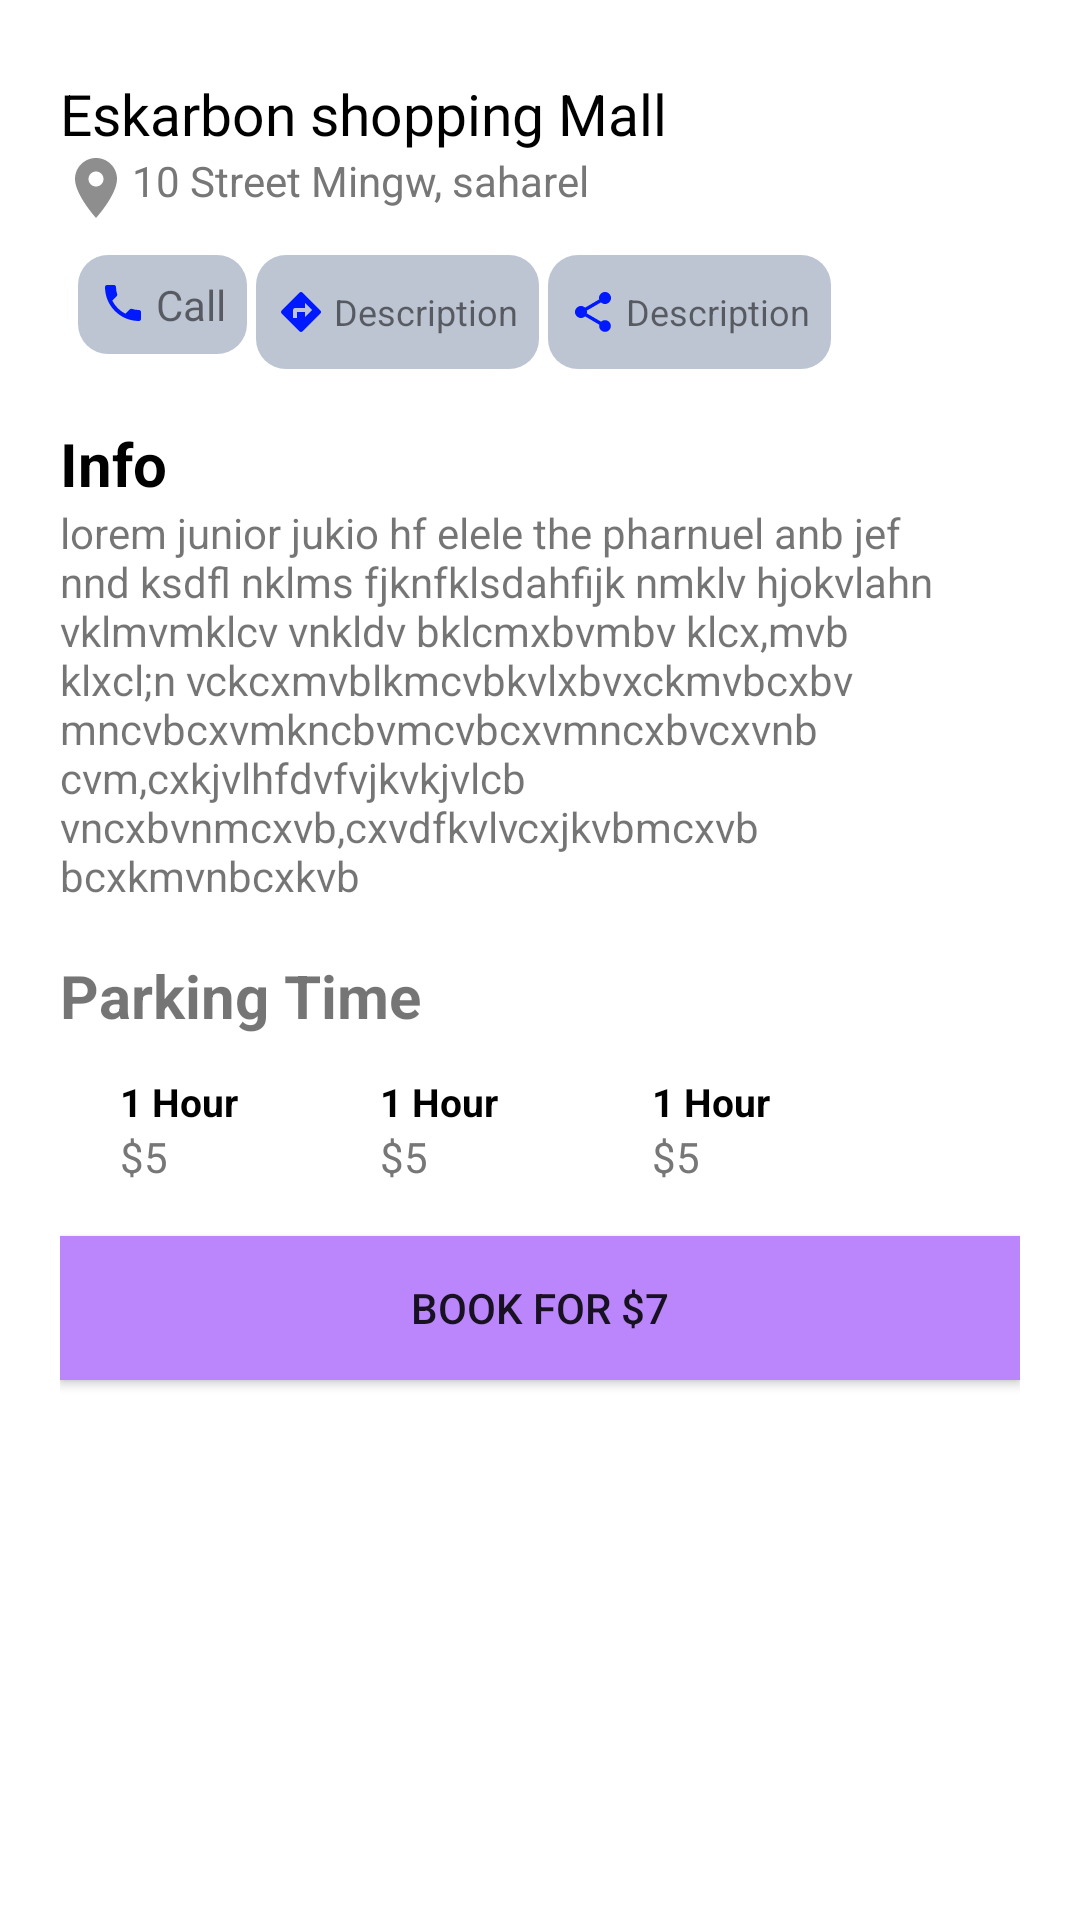

Where to tap for icons on this 1080x1920 app screen, as point (x, y):
directions: point (301, 312)
local phone: point (123, 303)
location on: point (96, 188)
share: point (593, 312)
